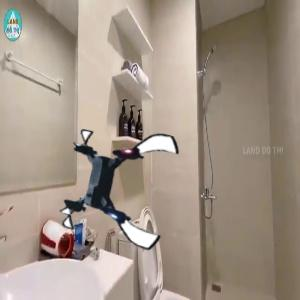drone: (62, 124, 182, 244)
